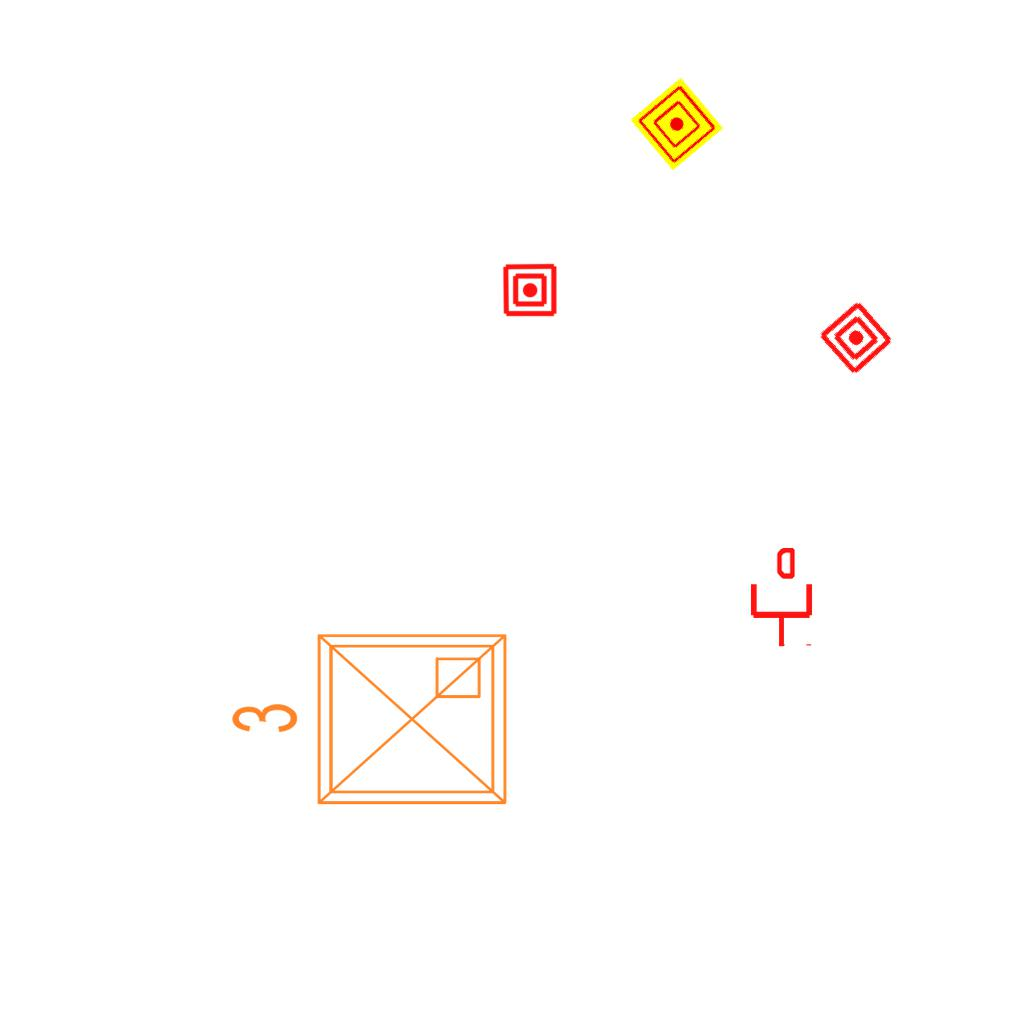Datenanschluss_einfach: (747, 548, 816, 648)
Einbaudownlights_LED_Konferenzraeume: (221, 619, 521, 827)
NAM-Nichtautomatischer_Melder: (630, 77, 724, 171), (816, 298, 896, 378), (502, 262, 558, 318)
